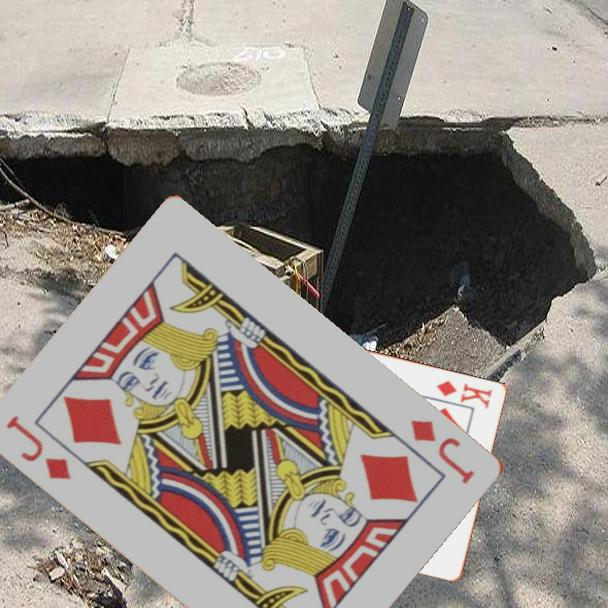d11: (3, 411, 75, 483), (408, 415, 478, 487)
d13: (434, 377, 495, 411)
